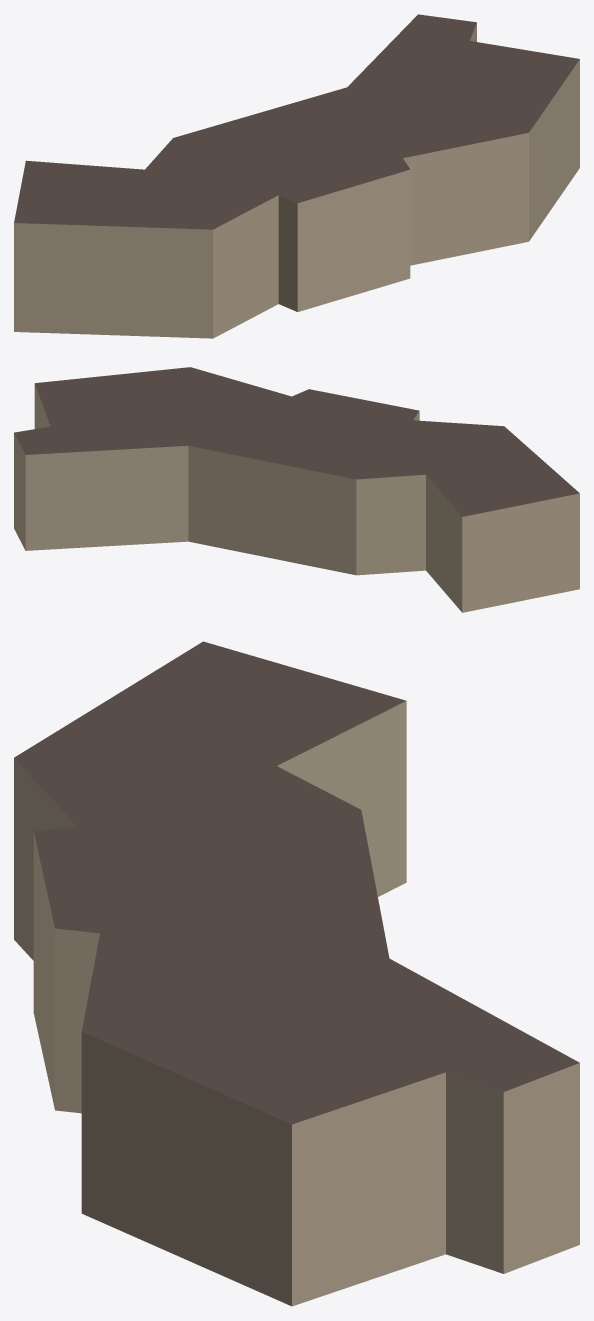
The picture shows the model from 3 angles, top to bottom: view 1: azimuth 30°, elevation 25°; view 2: azimuth 150°, elevation 25°; view 3: azimuth 270°, elevation 25°; orthographic projection. The views are drawn at different scales.
Visible parts, largest first — view 1: HP-w1512911263; view 2: HP-w1512911263; view 3: HP-w1512911263.
Part boxes in pixels (x1,y1,x2,y2): HP-w1512911263: [14, 14, 579, 338]; HP-w1512911263: [14, 367, 579, 612]; HP-w1512911263: [14, 641, 579, 1306].
Bounding box in the file's own units: 51.23 × 9 × 25.37.
